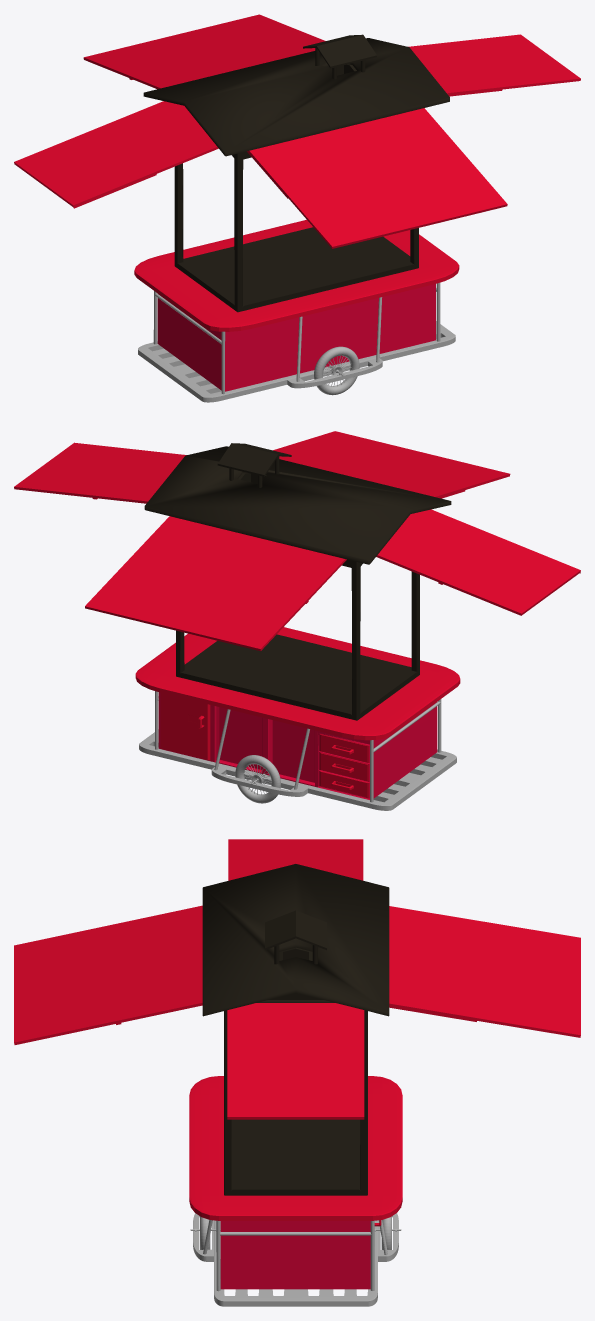
File: yatai-v2.fbx
The picture shows the model from 3 angles, top to bottom: view 1: azimuth 30°, elevation 25°; view 2: azimuth 150°, elevation 25°; view 3: azimuth 270°, elevation 25°; orthographic projection. The views are drawn at different scales.
Parts seen in each view (by area): view 1: RightWing, Roof, Storage, Top, BackWing, Table, LeftWing, Yatai, FrontWing; view 2: LeftWing, Roof, Top, BackWing, Table, Storage, RightWing, Yatai, FrontWing, Cube.004, Cube.002, Cube.003 (+1 smaller); view 3: Roof, LeftWing, RightWing, FrontWing, Table, Top, Storage, Yatai, BackWing.
Boxes of the visible parts, x1=… form: RightWing: x1=247, y1=108, x2=507, y2=248; Roof: x1=143, y1=34, x2=449, y2=156; Storage: x1=157, y1=284, x2=435, y2=391; Top: x1=174, y1=64, x2=418, y2=312; BackWing: x1=14, y1=101, x2=218, y2=208; Table: x1=134, y1=219, x2=459, y2=331; LeftWing: x1=83, y1=14, x2=325, y2=89; Yatai: x1=138, y1=282, x2=455, y2=402; FrontWing: x1=408, y1=34, x2=580, y2=96; LeftWing: x1=85, y1=516, x2=346, y2=651; Roof: x1=144, y1=443, x2=451, y2=564; Top: x1=176, y1=472, x2=419, y2=720; BackWing: x1=376, y1=509, x2=580, y2=615; Table: x1=135, y1=627, x2=460, y2=740; Storage: x1=158, y1=692, x2=437, y2=799; RightWing: x1=273, y1=431, x2=510, y2=498; Yatai: x1=139, y1=691, x2=456, y2=810; FrontWing: x1=14, y1=442, x2=186, y2=503; Cube.004: x1=160, y1=693, x2=210, y2=760; Cube.002: x1=320, y1=752, x2=368, y2=781; Cube.003: x1=320, y1=734, x2=368, y2=763; Roof: x1=202, y1=864, x2=389, y2=1016; LeftWing: x1=389, y1=906, x2=580, y2=1037; RightWing: x1=14, y1=905, x2=202, y2=1044; FrontWing: x1=227, y1=1003, x2=364, y2=1119; Table: x1=189, y1=1076, x2=402, y2=1220; Top: x1=224, y1=947, x2=367, y2=1195; Storage: x1=220, y1=1221, x2=370, y2=1289; Yatai: x1=190, y1=1213, x2=401, y2=1306; BackWing: x1=228, y1=839, x2=363, y2=880.
Bounding box in the file's own units: 532 × 370 × 625.
